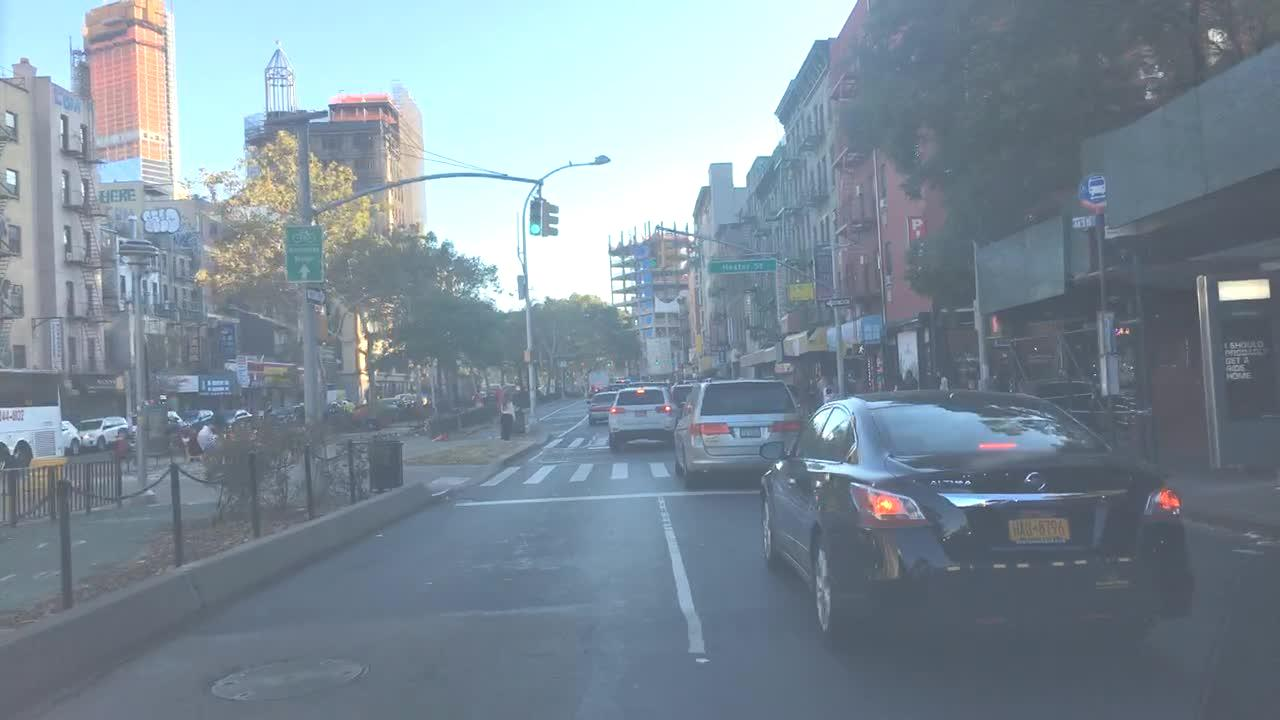Nissan: (1020, 472, 1050, 497)
